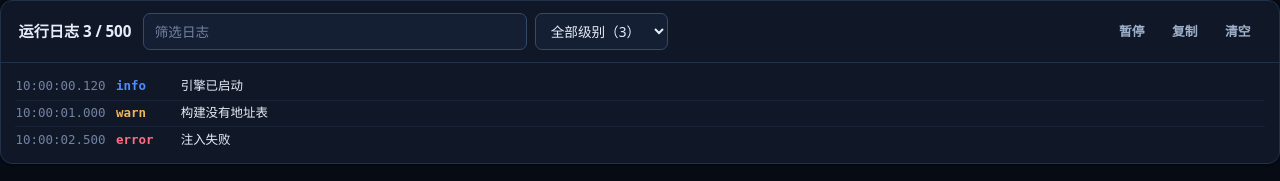
LogPanel › filters rows by keyword across time, level and text
Type "10:00:02" into the search field named "筛选运行日志" at (335, 32), box [143, 13, 527, 50]
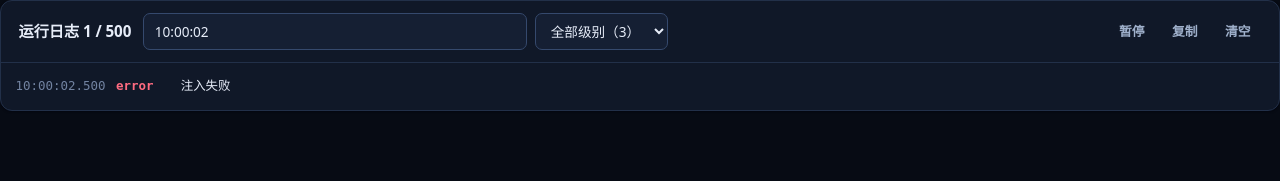
Result: the number of list items is 1 at [15, 78, 231, 93]
